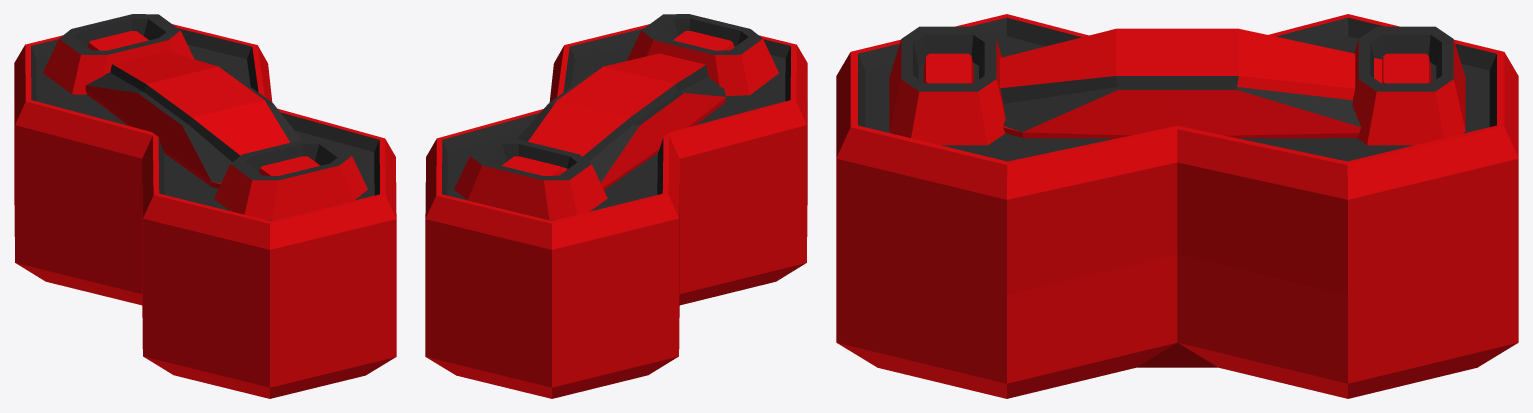
Rendered from SM_Module_TurretBase2_BO.fbx.
3 views of the same model, side by side, from view 1: azimuth 30°, elevation 25°; view 2: azimuth 150°, elevation 25°; view 3: azimuth 270°, elevation 25° (orthographic). The views are drawn at different scales.
Visible parts, largest first — view 1: SM_Module_Armour2_BO.001; view 2: SM_Module_Armour2_BO.001; view 3: SM_Module_Armour2_BO.001.
Boxes of the visible parts, x1=… form: SM_Module_Armour2_BO.001: x1=14, y1=14, x2=396, y2=398; SM_Module_Armour2_BO.001: x1=425, y1=14, x2=807, y2=398; SM_Module_Armour2_BO.001: x1=836, y1=14, x2=1518, y2=398.
Bounding box in the file's own units: 4 × 7 × 3.22.
